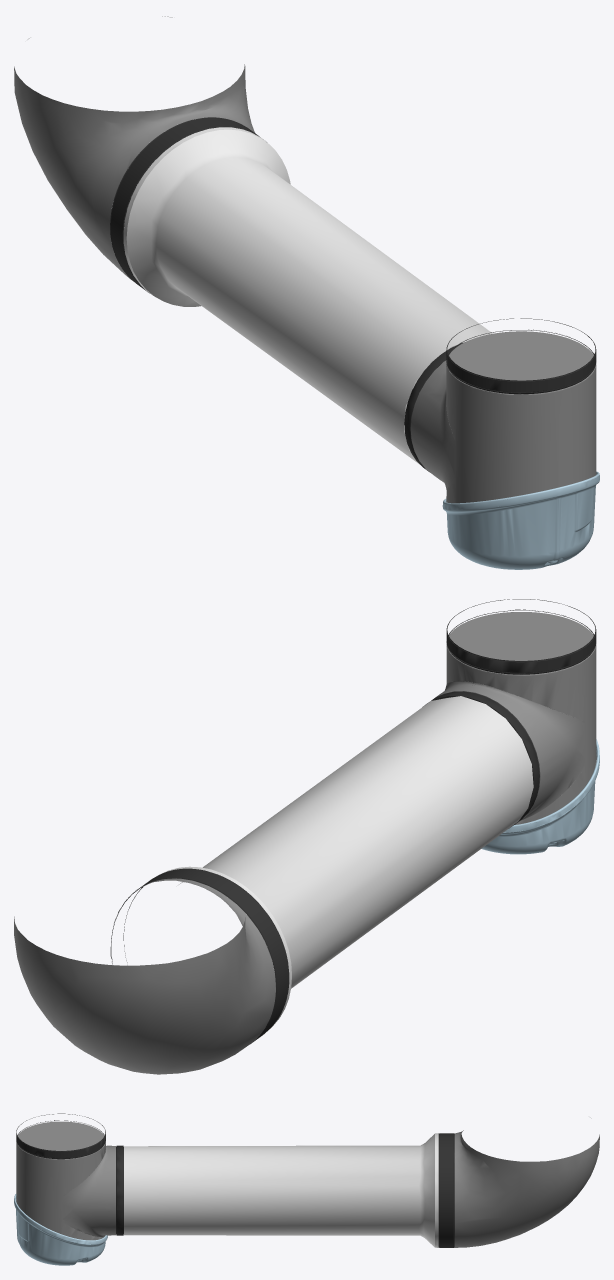
File: forearm.glb
3 views of the same model, one above another, from view 1: azimuth 30°, elevation 25°; view 2: azimuth 150°, elevation 25°; view 3: azimuth 270°, elevation 25° (orthographic). The views are drawn at different scales.
Visible parts, largest first — view 1: forearm; view 2: forearm; view 3: forearm.
Boxes of the visible parts, box(x1,y1,x2,y2) form: forearm: box(14, 16, 599, 569); forearm: box(14, 599, 599, 1074); forearm: box(14, 1113, 599, 1265).
Size of the model in its own units: 0.1158 by 0.1099 by 0.4894.
